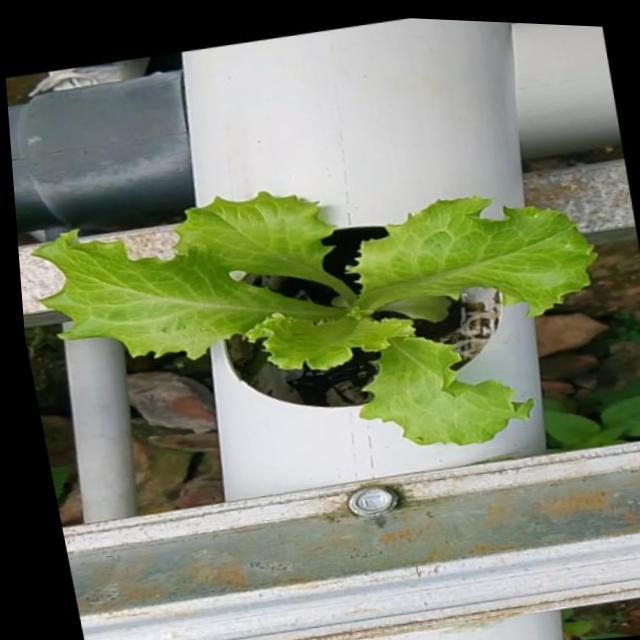Baby: (31, 200, 601, 456)
